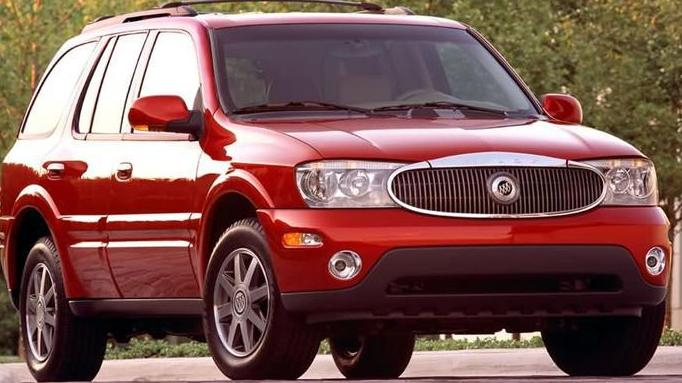front_view: (260, 138, 671, 320)
headlight: (287, 151, 419, 215)
side_glass: (15, 25, 210, 143)
